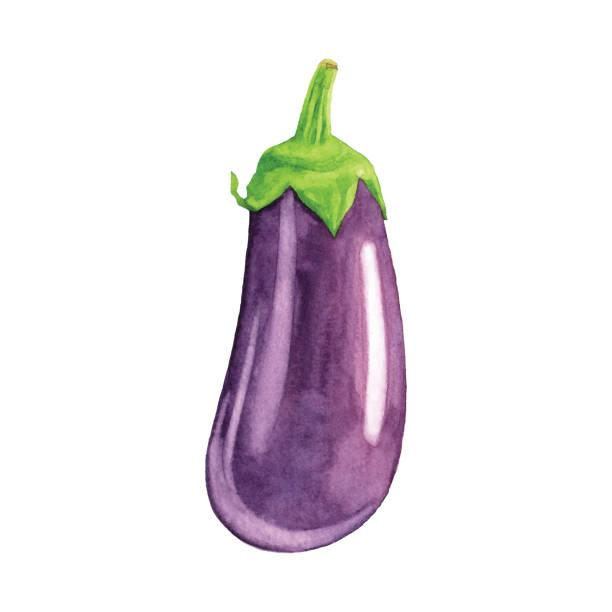Brinjal: (207, 53, 413, 542)
